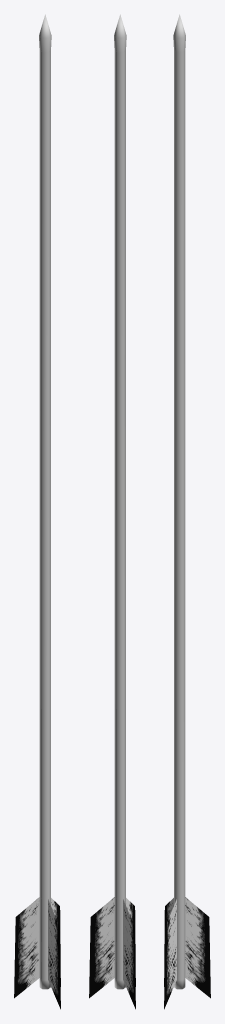
File: arrow_wood.fbx
The picture shows the model from 3 angles, left to right: view 1: azimuth 30°, elevation 25°; view 2: azimuth 150°, elevation 25°; view 3: azimuth 330°, elevation 25°; orthographic projection.
Visible parts, largest first — view 1: ArrowWood; view 2: ArrowWood; view 3: ArrowWood.
Part boxes in pixels (x1,y1,x2,y2): ArrowWood: (14,14,60,1009); ArrowWood: (89,14,135,1009); ArrowWood: (164,14,210,1009).
Size of the model in its own units: 0.1543 by 3.58 by 0.1781.
